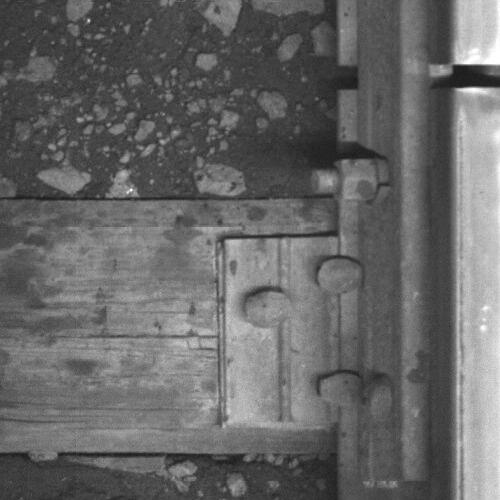do: (223, 229, 370, 429)
fp_end: (358, 455, 430, 500)
joint: (429, 60, 500, 91)
rail: (450, 1, 500, 500)
tie_wood: (1, 199, 337, 454)
wood_crack: (51, 325, 222, 347)
